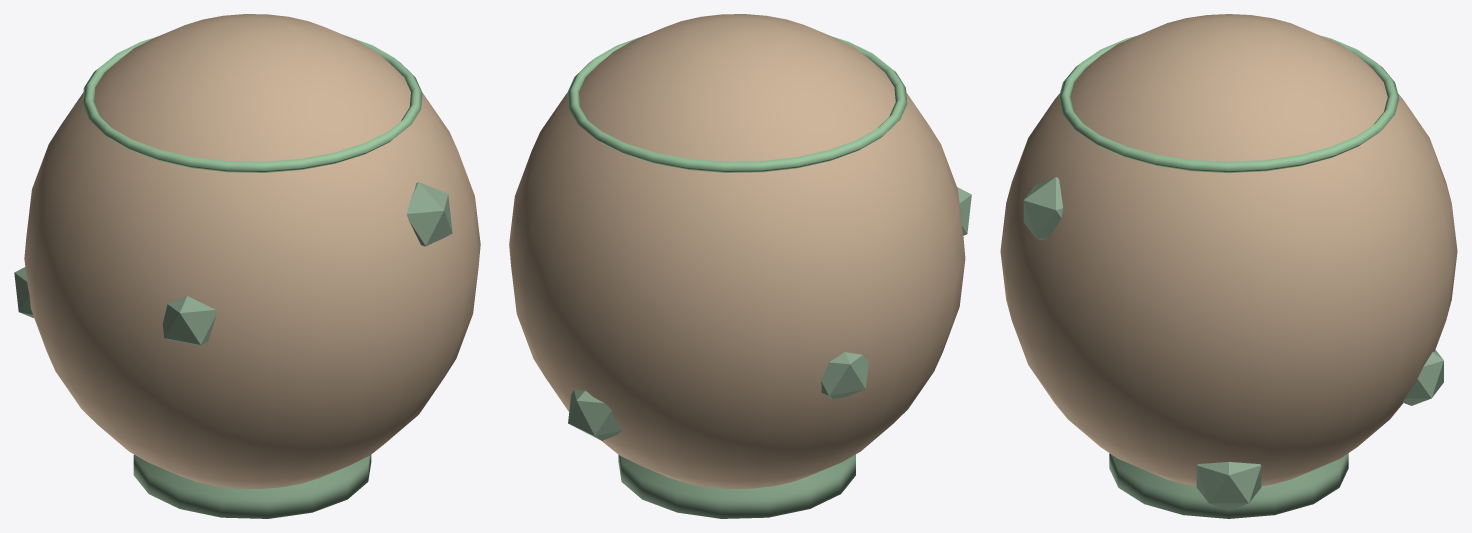
Rendered from egg_prehistoric_04.glb.
3 views of the same model, side by side, from view 1: azimuth 30°, elevation 25°; view 2: azimuth 150°, elevation 25°; view 3: azimuth 270°, elevation 25° (orthographic).
Parts seen in each view (by area): view 1: ball; view 2: ball; view 3: ball.
Part boxes in pixels (left/top/right/bottom): ball: left=14, top=14, right=480, bottom=518; ball: left=509, top=14, right=971, bottom=518; ball: left=1000, top=14, right=1457, bottom=518.
Size of the model in its own units: 0.84 by 0.88 by 0.84.
